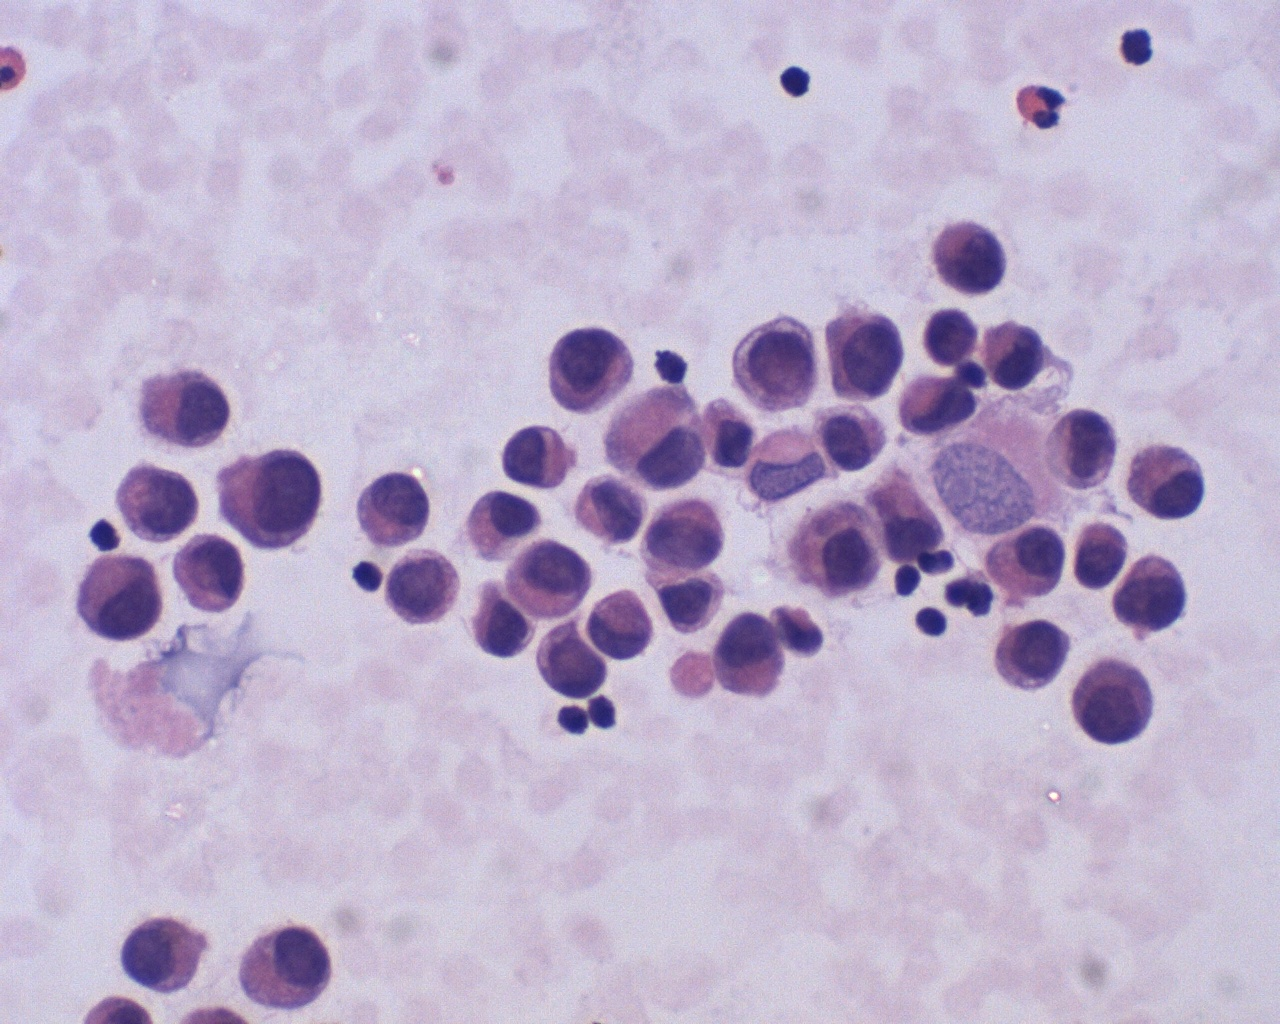ab: (205, 444, 328, 555), (723, 315, 824, 417), (130, 360, 237, 455), (822, 299, 912, 405), (1029, 404, 1126, 501), (541, 319, 635, 417), (66, 549, 167, 639), (119, 907, 219, 997), (1074, 651, 1157, 753), (637, 488, 735, 575), (985, 515, 1075, 608), (521, 616, 616, 703), (501, 536, 596, 621), (110, 460, 203, 545), (1106, 555, 1189, 648), (1126, 436, 1210, 528), (351, 467, 440, 552), (928, 213, 1014, 298), (990, 613, 1076, 694), (385, 549, 466, 633), (171, 528, 251, 614), (496, 417, 578, 497), (978, 315, 1055, 397)
lymph: (910, 596, 955, 647), (776, 62, 819, 104), (348, 555, 387, 597)
neutro: (1003, 77, 1070, 138)
